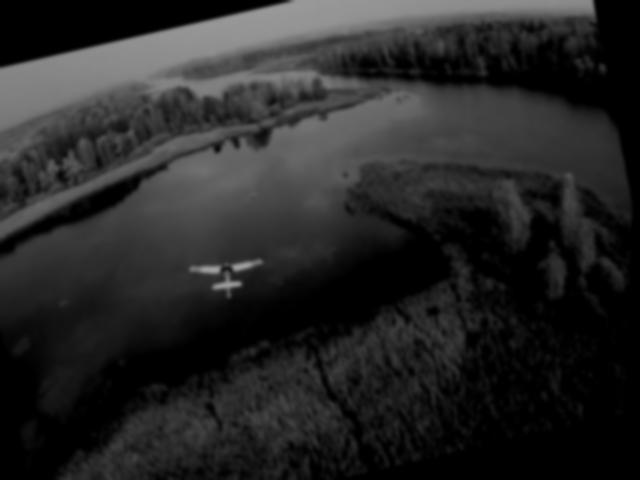hedef: (184, 246, 273, 312)
